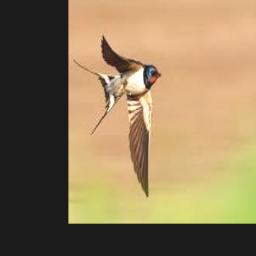Swallow: (74, 35, 162, 198)
